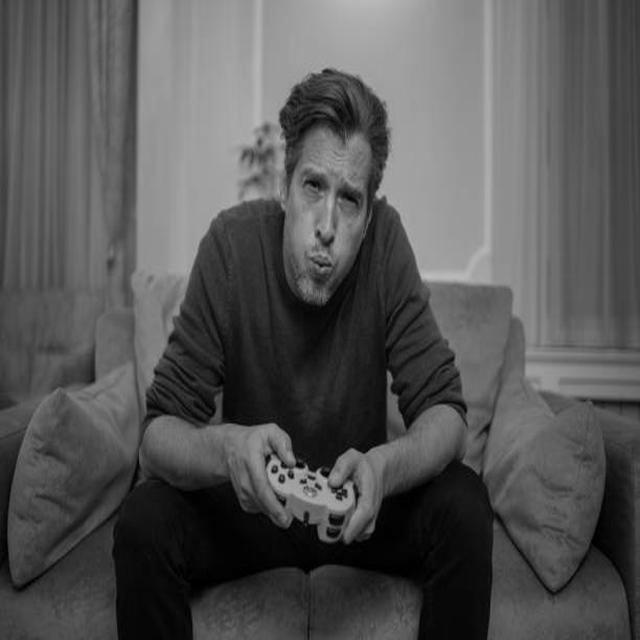Angry: (282, 129, 373, 306)
